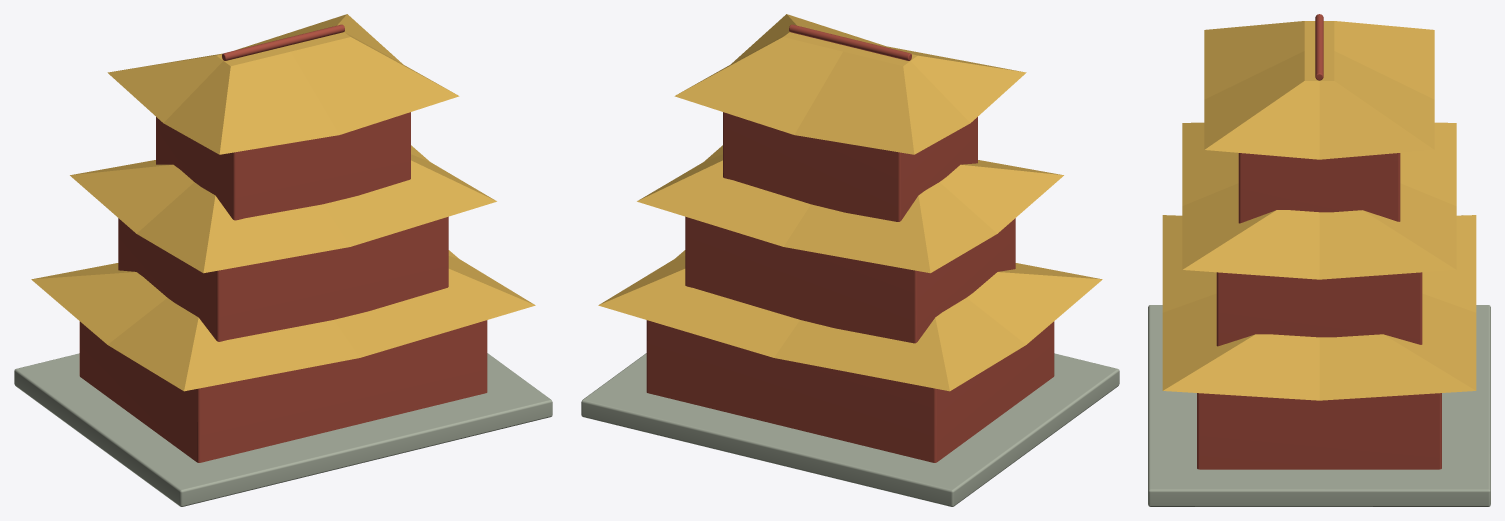
The model's file is yuejiang-original.glb.
The picture shows the model from 3 angles, left to right: view 1: azimuth 30°, elevation 25°; view 2: azimuth 150°, elevation 25°; view 3: azimuth 270°, elevation 25°; orthographic projection. The views are drawn at different scales.
Parts seen in each view (by area): view 1: tower level, golden tier, golden tier.002, stone terrace, golden tier.001, tower level.001, tower level.002, golden tier ridge.002; view 2: tower level, golden tier.002, golden tier, stone terrace, golden tier.001, tower level.001, tower level.002, golden tier ridge.002; view 3: golden tier.002, golden tier, golden tier.001, stone terrace, tower level, tower level.001, tower level.002, golden tier ridge.002.
Part boxes in pixels (x1=…): tower level: x1=79, y1=320, x2=487, y2=462; golden tier: x1=31, y1=250, x2=535, y2=391; golden tier.002: x1=107, y1=14, x2=459, y2=154; stone terrace: x1=14, y1=353, x2=552, y2=506; golden tier.001: x1=70, y1=145, x2=496, y2=273; tower level.001: x1=118, y1=216, x2=448, y2=341; tower level.002: x1=156, y1=112, x2=410, y2=220; golden tier ridge.002: x1=222, y1=24, x2=344, y2=60; tower level: x1=646, y1=320, x2=1054, y2=462; golden tier.002: x1=674, y1=14, x2=1026, y2=154; golden tier: x1=598, y1=250, x2=1102, y2=391; stone terrace: x1=581, y1=353, x2=1119, y2=506; golden tier.001: x1=637, y1=145, x2=1063, y2=273; tower level.001: x1=685, y1=216, x2=1015, y2=343; tower level.002: x1=723, y1=112, x2=977, y2=221; golden tier ridge.002: x1=789, y1=24, x2=911, y2=60; golden tier.002: x1=1204, y1=21, x2=1434, y2=159; golden tier: x1=1162, y1=215, x2=1476, y2=400; golden tier.001: x1=1182, y1=122, x2=1456, y2=279; stone terrace: x1=1148, y1=305, x2=1490, y2=506; tower level: x1=1197, y1=393, x2=1441, y2=469; tower level.001: x1=1216, y1=272, x2=1422, y2=346; tower level.002: x1=1238, y1=153, x2=1400, y2=223; golden tier ridge.002: x1=1315, y1=14, x2=1323, y2=80.
Size of the model in its own units: 9 by 8.37 by 7.
